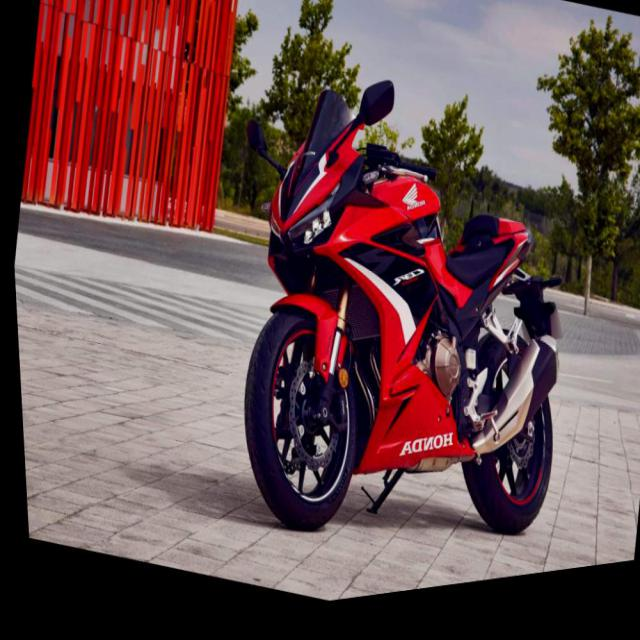CBR500R: (208, 47, 602, 618)
